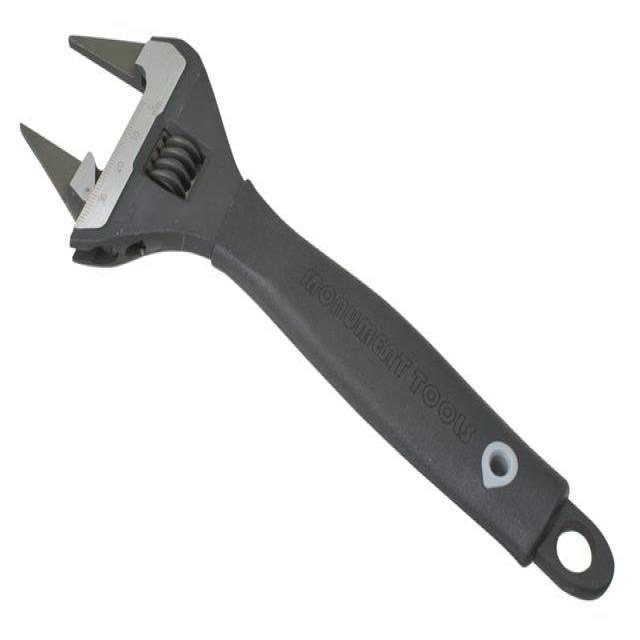wrench: (15, 29, 617, 604)
